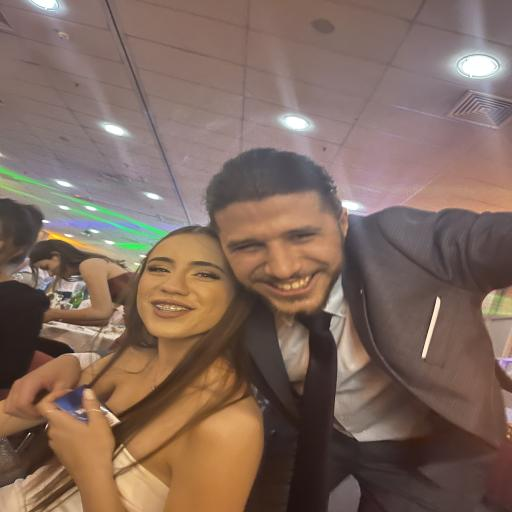masa: (134, 232, 230, 337)
